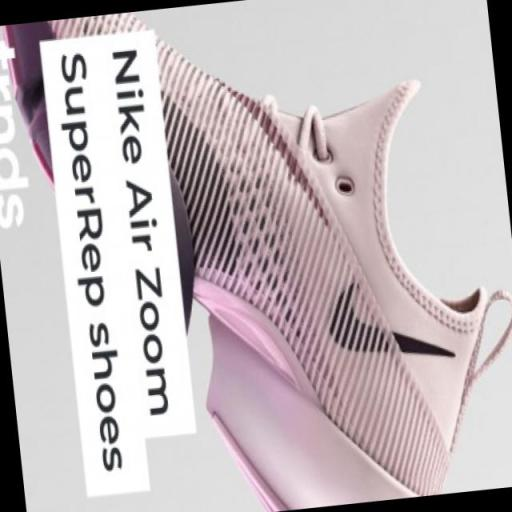Nike: (316, 263, 459, 382)
